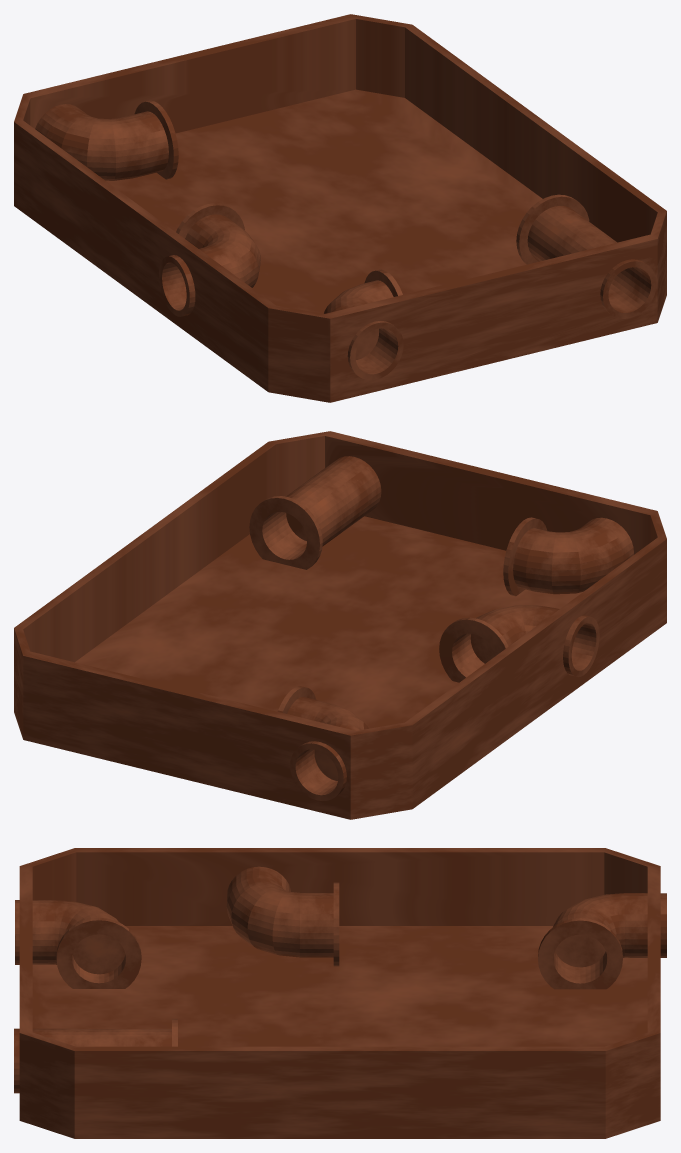
The model's file is Final_box for pipe puzzle.glb.
3 renders of one model, top to bottom at view 1: azimuth 30°, elevation 25°; view 2: azimuth 150°, elevation 25°; view 3: azimuth 270°, elevation 25°, orthographic. The views are drawn at different scales.
Parts seen in each view (by area): view 1: Cube.001, One end short angle pipe, One end short straight pipe, Cylinder.037, Cylinder.038; view 2: Cube.001, One end short straight pipe, Cylinder.038, Cylinder.037, One end short angle pipe; view 3: Cube.001, One end short angle pipe, Cylinder.038, Cylinder.037, One end short straight pipe.
Boxes of the visible parts, x1,y1,x2,y2 form: Cube.001: [14, 14, 666, 402]; One end short angle pipe: [35, 100, 178, 180]; One end short straight pipe: [516, 194, 656, 318]; Cylinder.037: [159, 203, 260, 316]; Cylinder.038: [324, 269, 403, 380]; Cube.001: [14, 431, 666, 819]; One end short straight pipe: [249, 456, 381, 569]; Cylinder.038: [503, 517, 633, 596]; Cylinder.037: [439, 605, 599, 682]; One end short angle pipe: [277, 686, 368, 800]; Cube.001: [19, 848, 660, 1138]; One end short angle pipe: [538, 893, 666, 989]; Cylinder.038: [15, 900, 141, 988]; Cylinder.037: [226, 866, 339, 966]; One end short straight pipe: [14, 1018, 177, 1093].
Bounding box in the file's own units: 3.03 × 0.6032 × 4.06.
Materials: 2 (2 with a texture image).
